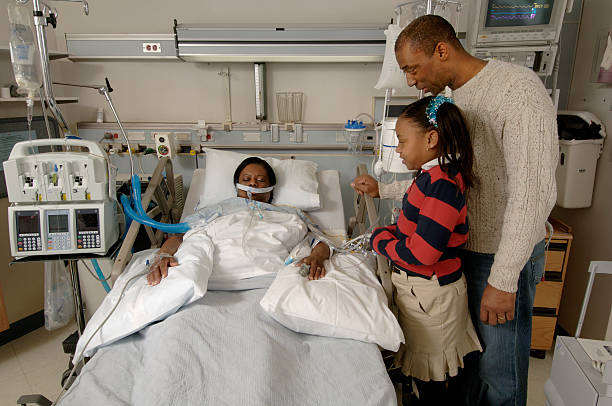bedrail: (110, 149, 180, 293), (353, 160, 395, 322)
bedside_monitor: (473, 1, 558, 46)
breathing_tube: (120, 177, 197, 233)
hospital_bed: (63, 149, 402, 406)
infusion_pump: (3, 138, 120, 260)
iv_pole: (1, 1, 64, 118)
medical_drawer: (514, 226, 584, 368)
patient: (145, 157, 333, 402)
visitor: (350, 15, 559, 403), (368, 93, 481, 406)
waste_bin: (557, 112, 612, 212)
